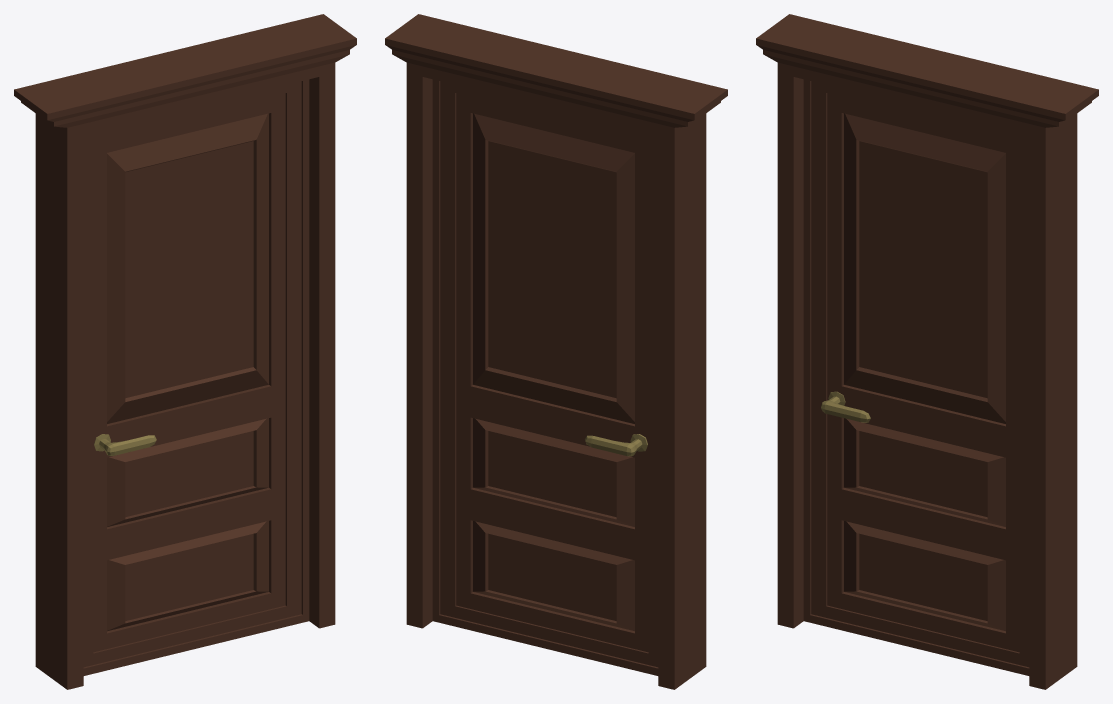
The model's file is puerta.glb.
3 renders of one model, left to right at view 1: azimuth 30°, elevation 25°; view 2: azimuth 150°, elevation 25°; view 3: azimuth 330°, elevation 25°, orthographic.
Visible parts, largest first — view 1: Door_Cube.008, DoorFrame_Cube.010, DoorHandle_Cube.009; view 2: Door_Cube.008, DoorFrame_Cube.010, DoorHandle_Cube.009; view 3: Door_Cube.008, DoorFrame_Cube.010, DoorHandle_Cube.009.
Boxes of the visible parts, bbox=[...] form: Door_Cube.008: bbox=[83, 79, 309, 675]; DoorFrame_Cube.010: bbox=[14, 14, 356, 689]; DoorHandle_Cube.009: bbox=[94, 434, 156, 455]; Door_Cube.008: bbox=[432, 79, 658, 675]; DoorFrame_Cube.010: bbox=[385, 14, 727, 689]; DoorHandle_Cube.009: bbox=[585, 434, 647, 456]; Door_Cube.008: bbox=[803, 79, 1029, 675]; DoorFrame_Cube.010: bbox=[756, 14, 1098, 689]; DoorHandle_Cube.009: bbox=[821, 391, 870, 422].
Bounding box in the file's own units: 1.75 × 3.14 × 0.3272.
